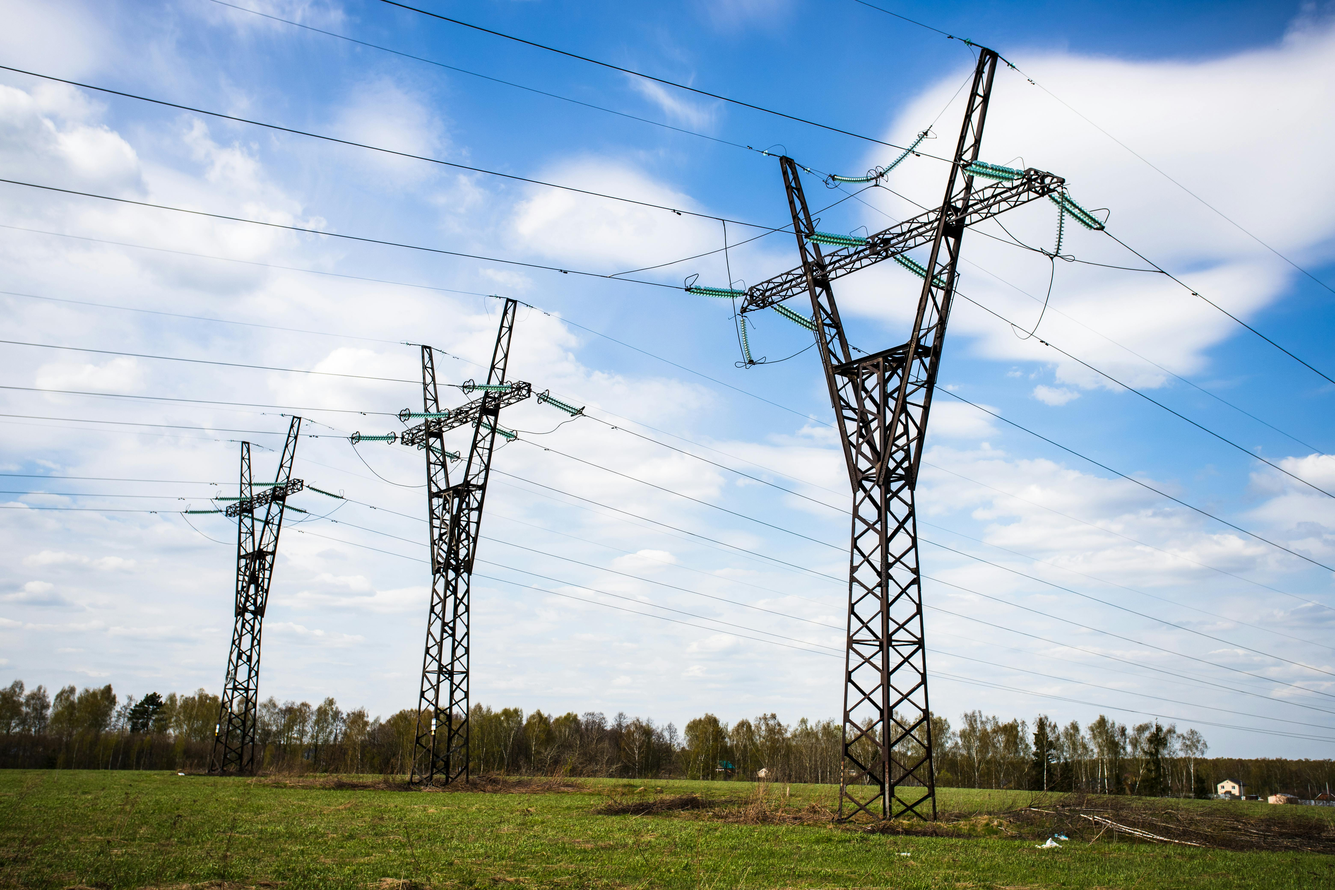insulator: (892, 247, 956, 295), (1047, 190, 1111, 234), (883, 127, 928, 178), (763, 299, 826, 335), (733, 308, 758, 367), (811, 226, 877, 248), (681, 284, 752, 301), (536, 391, 583, 416), (969, 164, 1026, 183), (1055, 185, 1069, 254), (416, 439, 459, 461), (472, 420, 518, 439), (831, 172, 886, 186), (306, 482, 342, 501), (238, 511, 277, 527), (400, 409, 450, 421), (244, 479, 288, 490), (470, 382, 509, 394), (273, 501, 308, 514), (353, 434, 392, 444), (211, 495, 260, 502), (187, 509, 226, 515)
